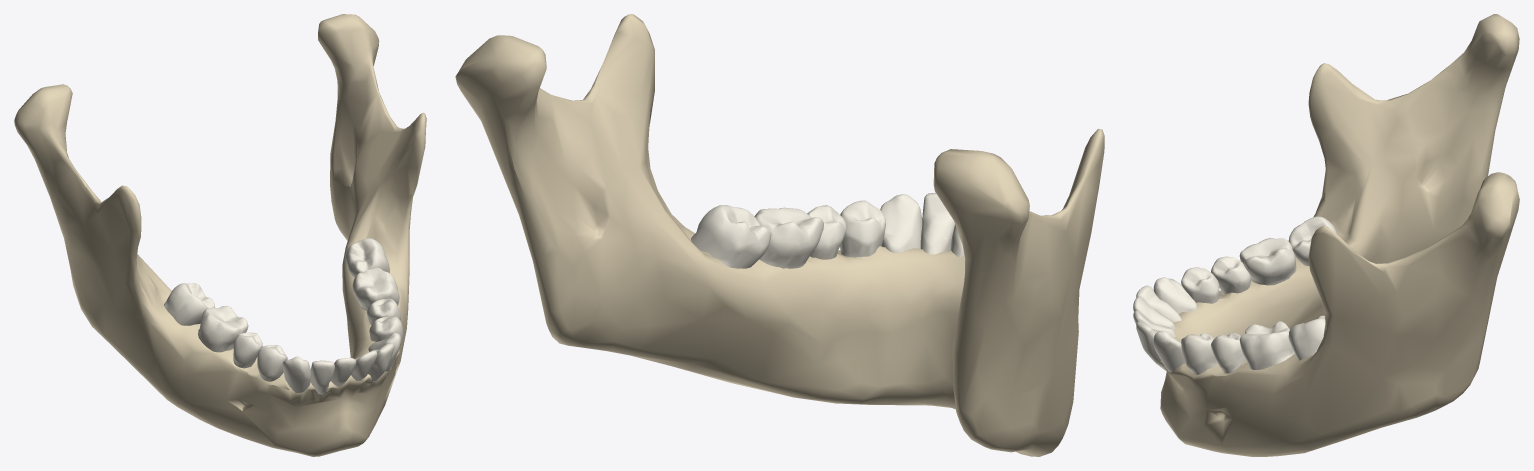
The model's file is mandible.glb.
3 views of the same model, side by side, from view 1: azimuth 30°, elevation 25°; view 2: azimuth 150°, elevation 25°; view 3: azimuth 270°, elevation 25° (orthographic). The views are drawn at different scales.
Parts seen in each view (by area): view 1: mandible; view 2: mandible; view 3: mandible.
Boxes of the visible parts, box(x1,y1,x2,y2) form: mandible: box(14, 14, 426, 456); mandible: box(455, 14, 1104, 456); mandible: box(1133, 14, 1519, 456).
Size of the model in its own units: 0.1064 by 0.0845 by 0.0886.
